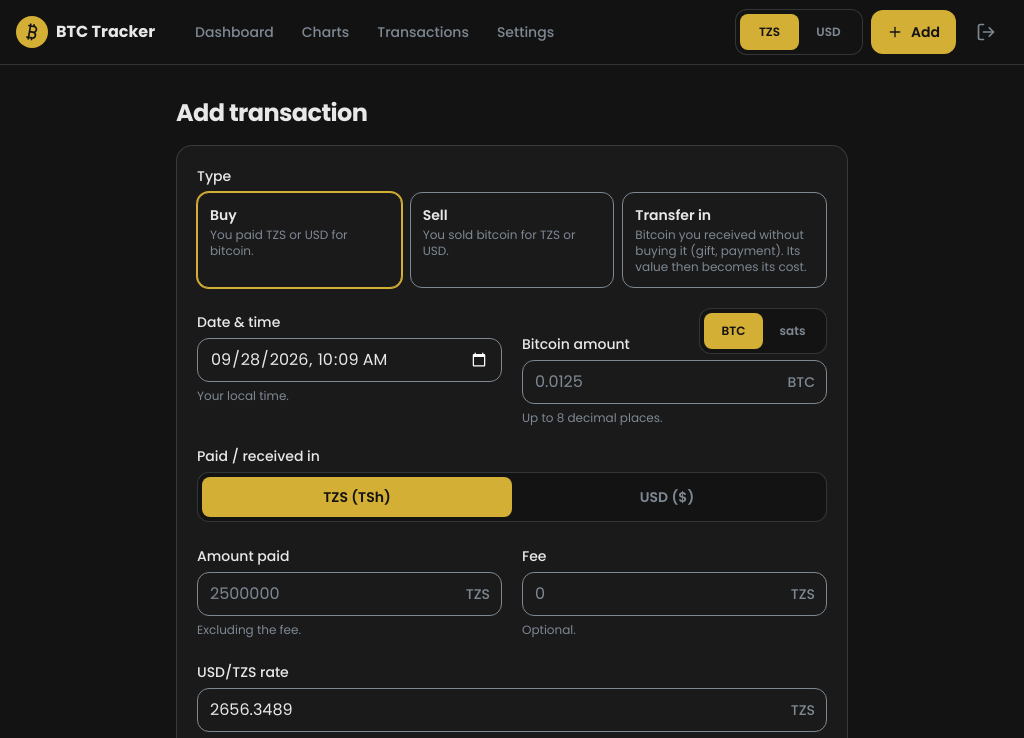
Test: Add transaction form › explains a 422 over-sell from the server
Click the radio button labelled "Sell You sold bitcoin for TZS or USD.".
click(512, 240)  # box [410, 192, 614, 288]
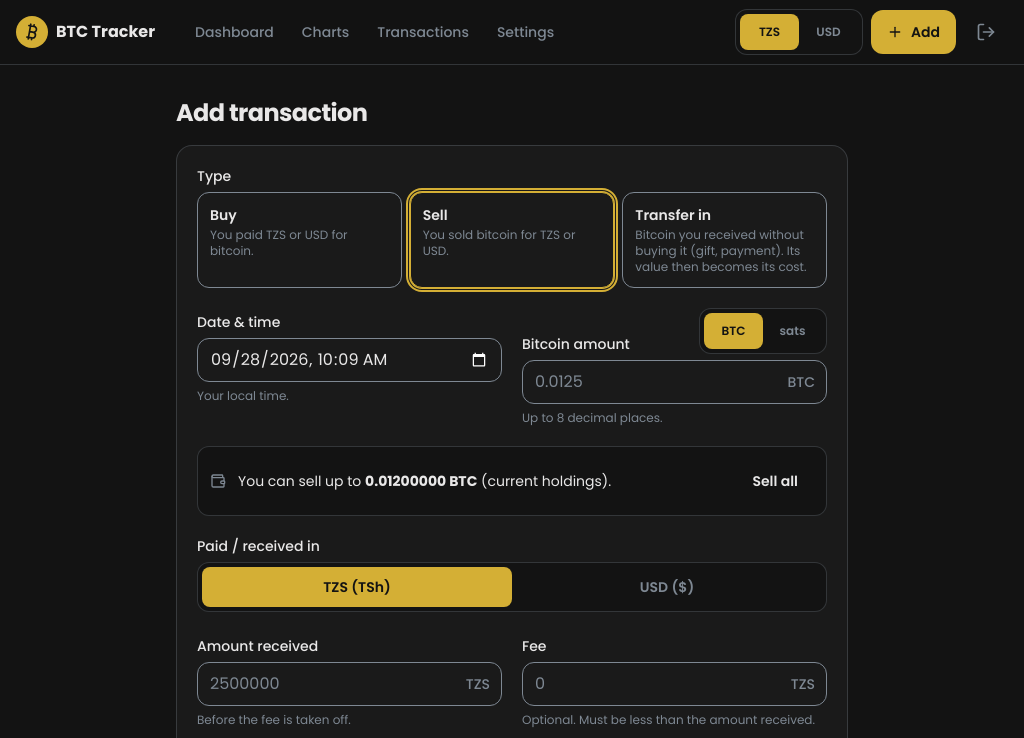
Type "0.5" into the field labelled "Bitcoin amount".
click(674, 382); type("0.5")  # box [522, 360, 827, 404]
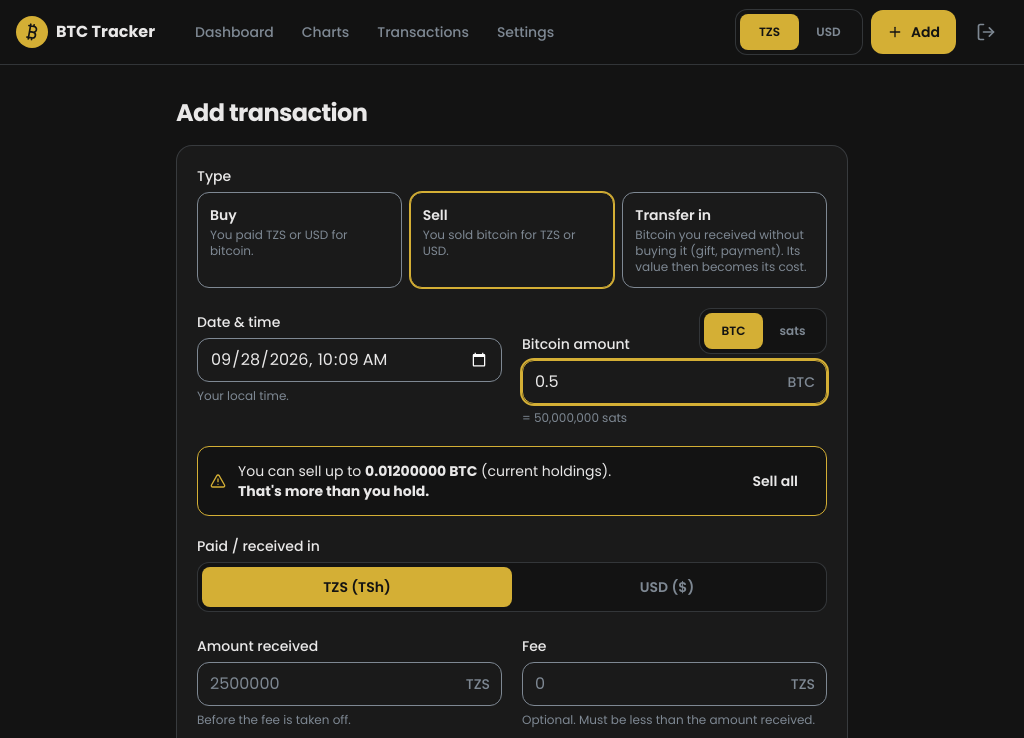
Type "1000" into the field labelled "Amount received".
click(350, 684); type("1000")  # box [197, 662, 502, 706]
(page scrolled)
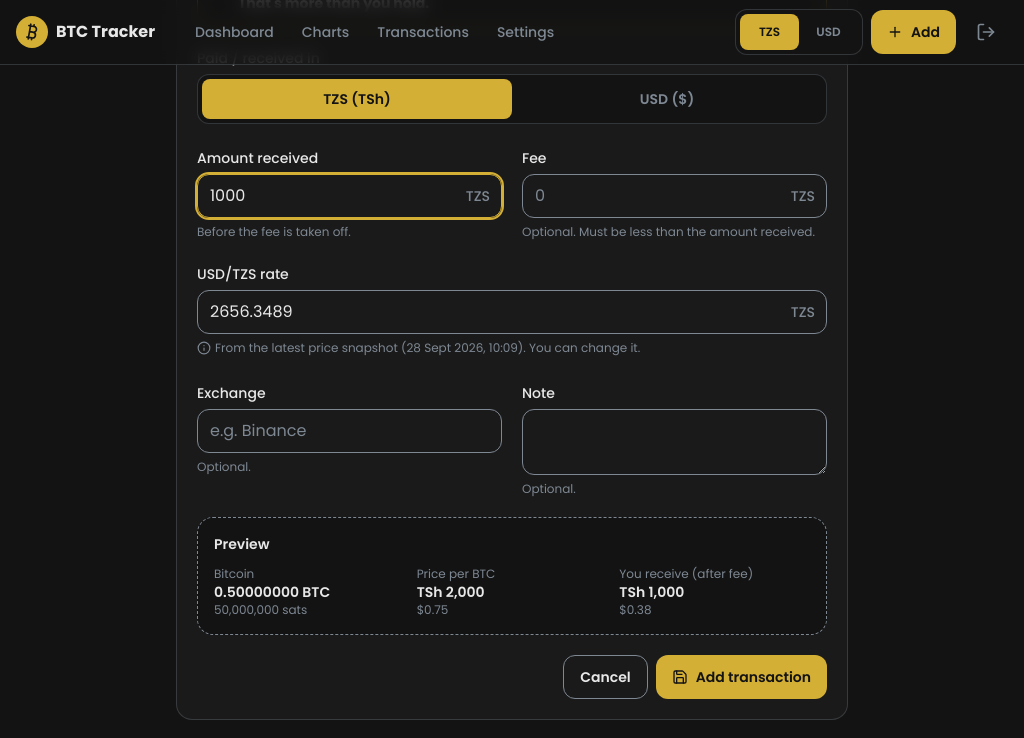
Expected: the field labelled "USD/TZS rate" holds "2656.3489", [197, 290, 827, 334]
Click the button "Add transaction".
click(741, 677)  # box [656, 655, 827, 699]
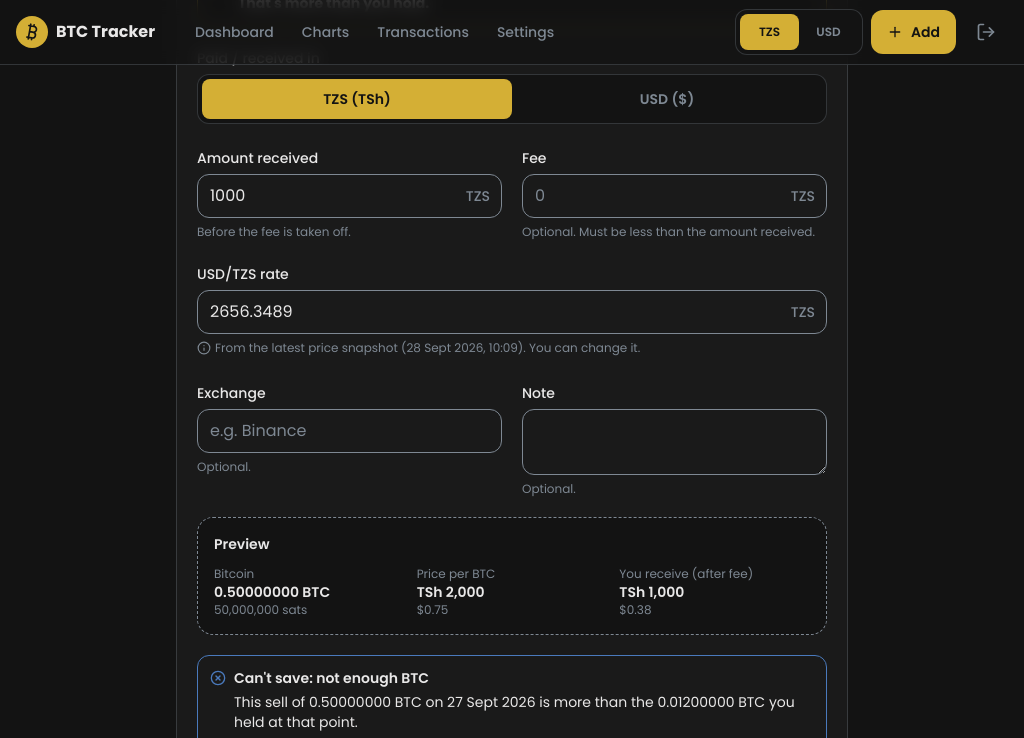
Result: the text "0.01200000 BTC you held" is shown at [234, 692, 795, 732]
